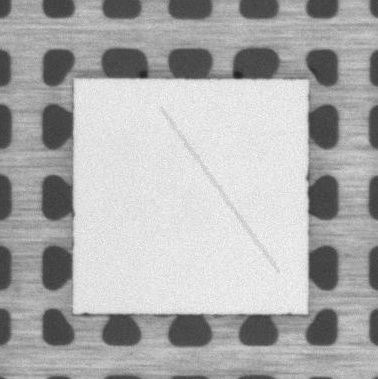DIE_CRACK: (161, 108, 278, 273)
